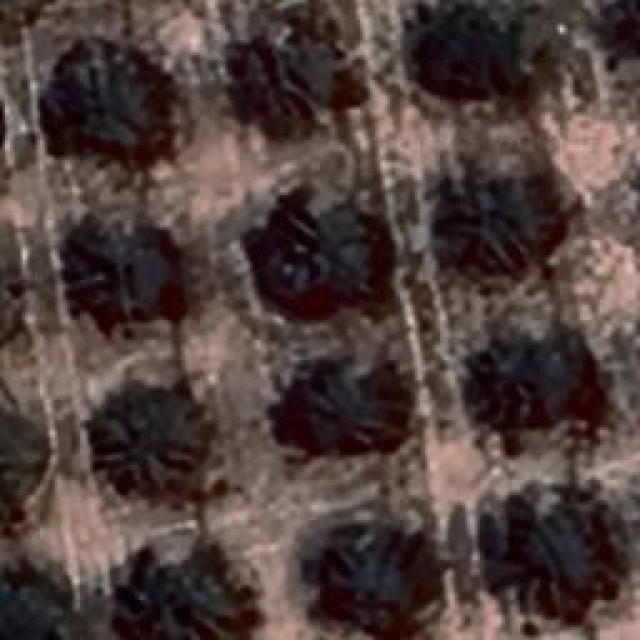PalmTree: (39, 30, 620, 100), (38, 42, 174, 170), (226, 29, 359, 129), (498, 505, 620, 610), (264, 202, 372, 306), (318, 526, 424, 629), (66, 226, 169, 326), (429, 172, 529, 272), (126, 565, 252, 640), (94, 400, 198, 485), (489, 324, 579, 418), (304, 368, 388, 450), (5, 567, 72, 640), (0, 418, 55, 506), (0, 0, 46, 40)
